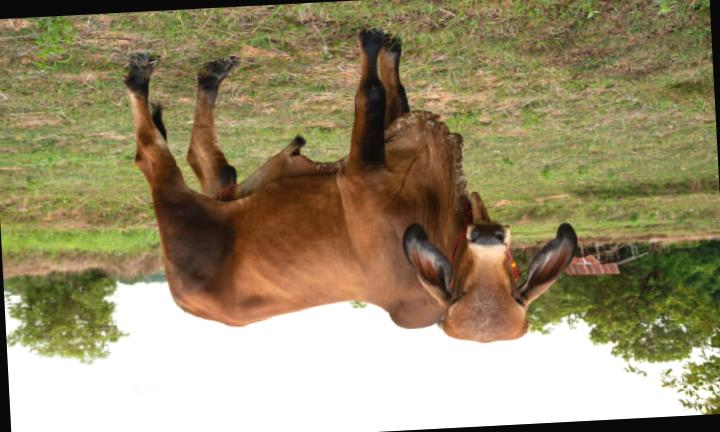Brahman: (127, 30, 576, 342)
